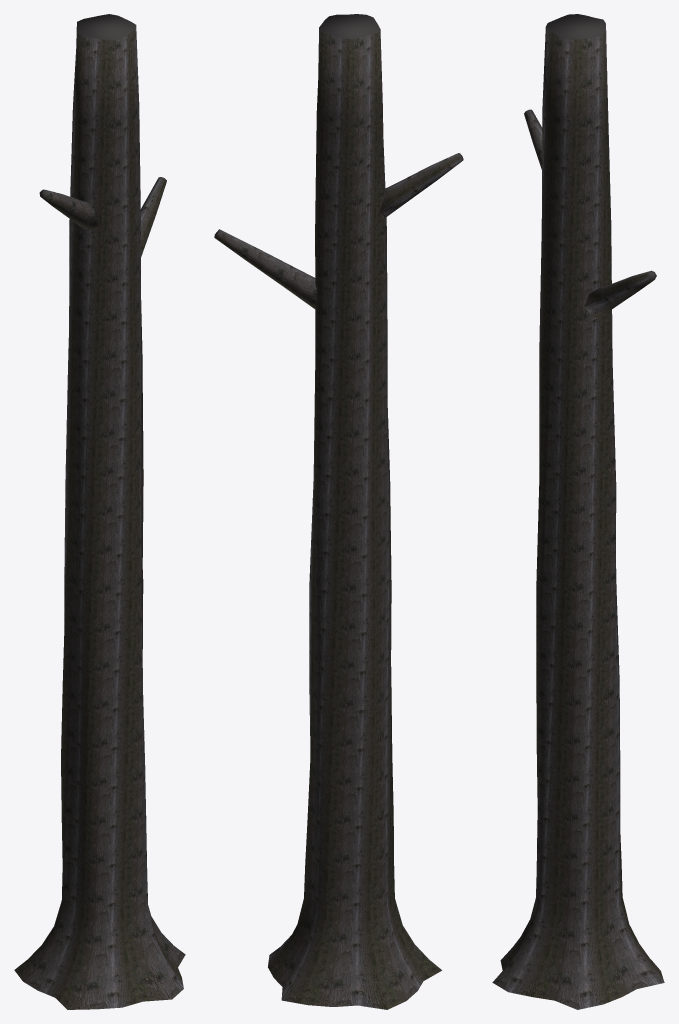
File: trunk.glb
3 views of the same model, side by side, from view 1: azimuth 30°, elevation 25°; view 2: azimuth 150°, elevation 25°; view 3: azimuth 270°, elevation 25° (orthographic).
Parts seen in each view (by area): view 1: TrunkMesh; view 2: TrunkMesh; view 3: TrunkMesh.
Part boxes in pixels (<box>): TrunkMesh: <box>14,14,185,1009</box>; TrunkMesh: <box>214,14,463,1009</box>; TrunkMesh: <box>492,14,664,1009</box>.
Bounding box in the file's own units: 5.09 × 24.59 × 4.07.
Materials: 1 (1 with a texture image).
